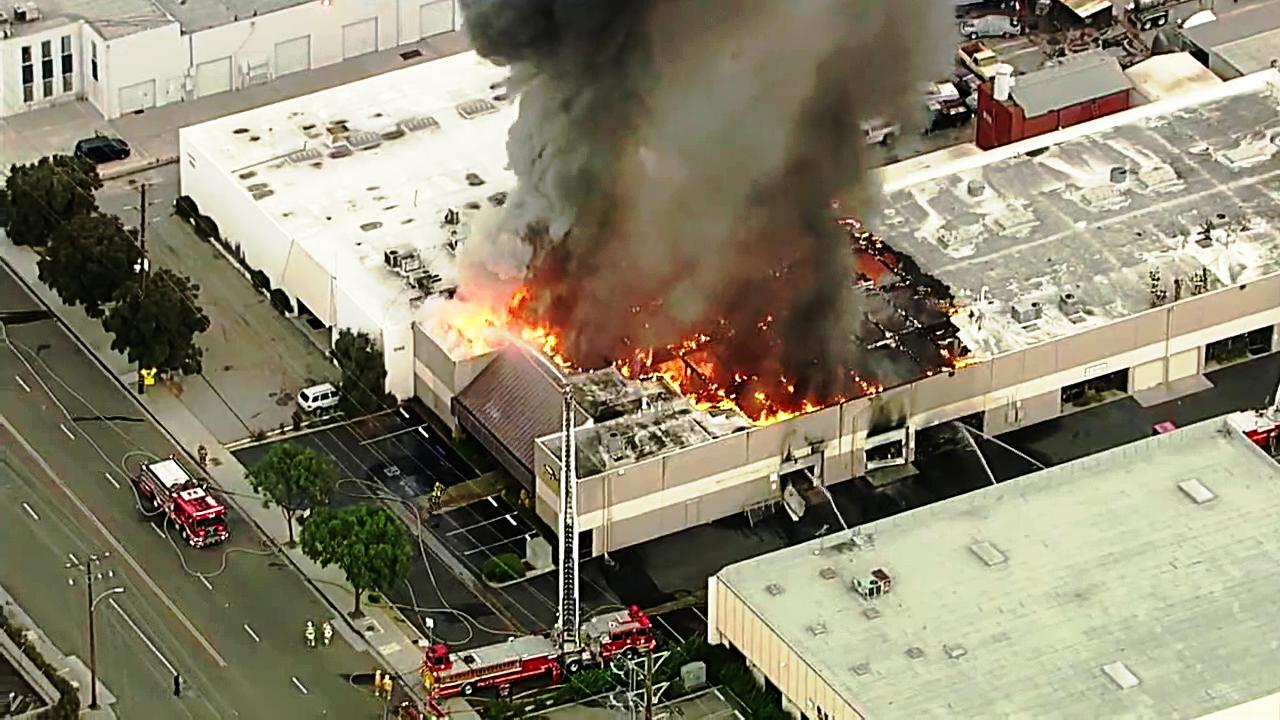smoke: (532, 0, 906, 275)
